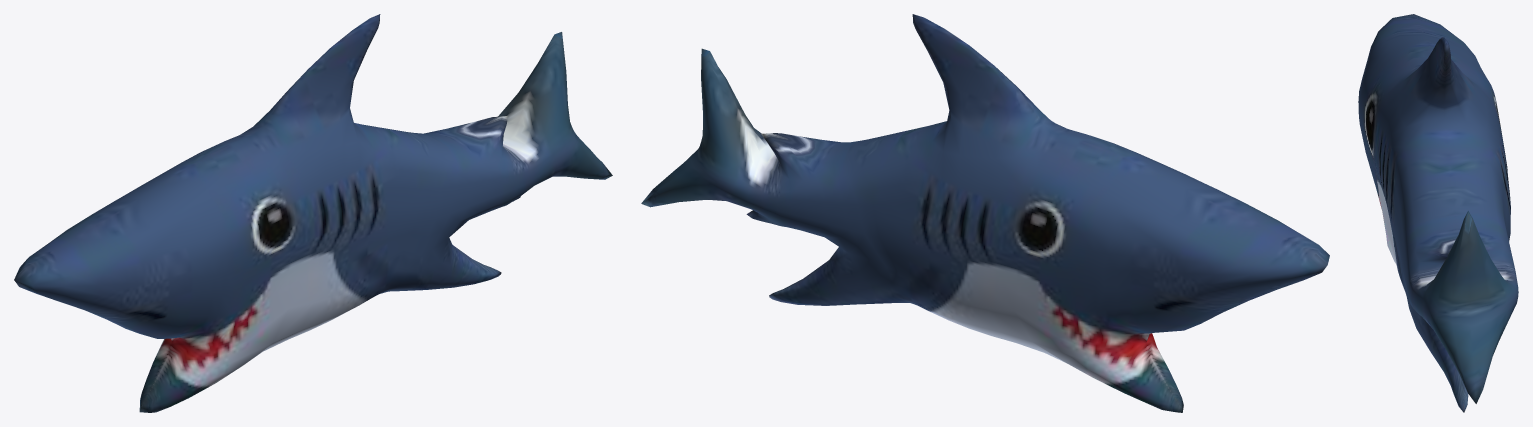
The model's file is Shark.fbx.
3 views of the same model, side by side, from view 1: azimuth 30°, elevation 25°; view 2: azimuth 150°, elevation 25°; view 3: azimuth 270°, elevation 25° (orthographic). The views are drawn at different scales.
Parts seen in each view (by area): view 1: Plane; view 2: Plane; view 3: Plane.
Part boxes in pixels (x1,y1,x2,y2): Plane: (14, 14, 612, 412); Plane: (641, 14, 1329, 412); Plane: (1358, 14, 1518, 412).
Size of the model in its own units: 270 by 136 by 58.22.
